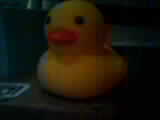duck: (32, 8, 127, 94)
